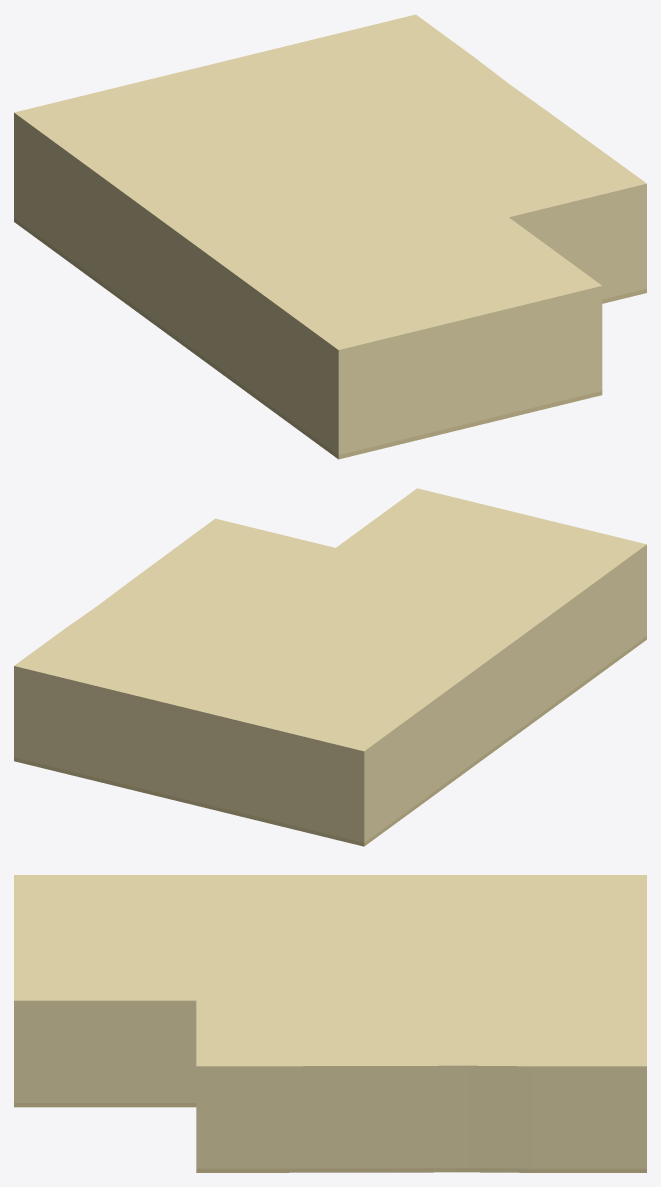
Rendered from map1.glb.
The picture shows the model from 3 angles, top to bottom: view 1: azimuth 30°, elevation 25°; view 2: azimuth 150°, elevation 25°; view 3: azimuth 270°, elevation 25°; orthographic projection. The views are drawn at different scales.
Visible parts, largest first — view 1: floor1; view 2: floor1; view 3: floor1.
Part boxes in pixels (x1=…): floor1: x1=14, y1=14, x2=646, y2=459; floor1: x1=14, y1=488, x2=646, y2=846; floor1: x1=14, y1=875, x2=646, y2=1172.
Bounding box in the file's own units: 20.94 × 5.44 × 29.29.
Materials: 1 (1 with a texture image).
